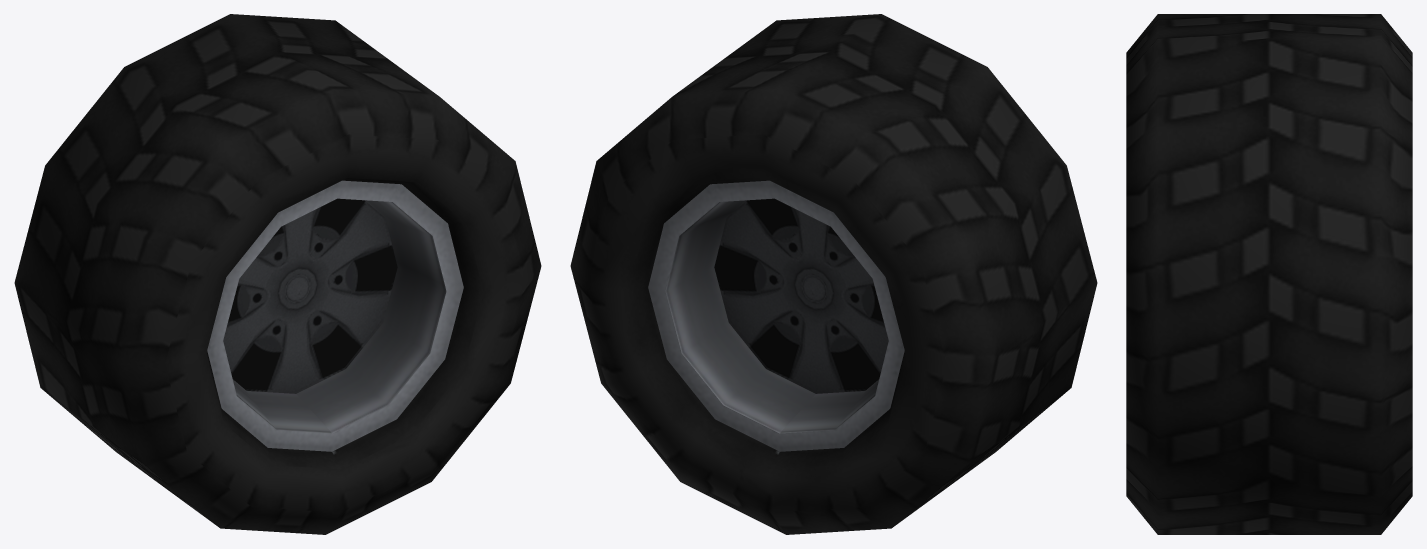
The model's file is right_rear_wheel.dae.
The picture shows the model from 3 angles, left to right: view 1: azimuth 30°, elevation 25°; view 2: azimuth 150°, elevation 25°; view 3: azimuth 270°, elevation 25°; orthographic projection. The views are drawn at different scales.
Parts seen in each view (by area): view 1: node; view 2: node; view 3: node.
Part boxes in pixels (x1,y1,x2,y2): node: (14,14,541,534); node: (570,14,1097,534); node: (1126,14,1412,534).
Bounding box in the file's own units: 7.13 × 3.92 × 7.13.
Materials: 1 (1 with a texture image).
